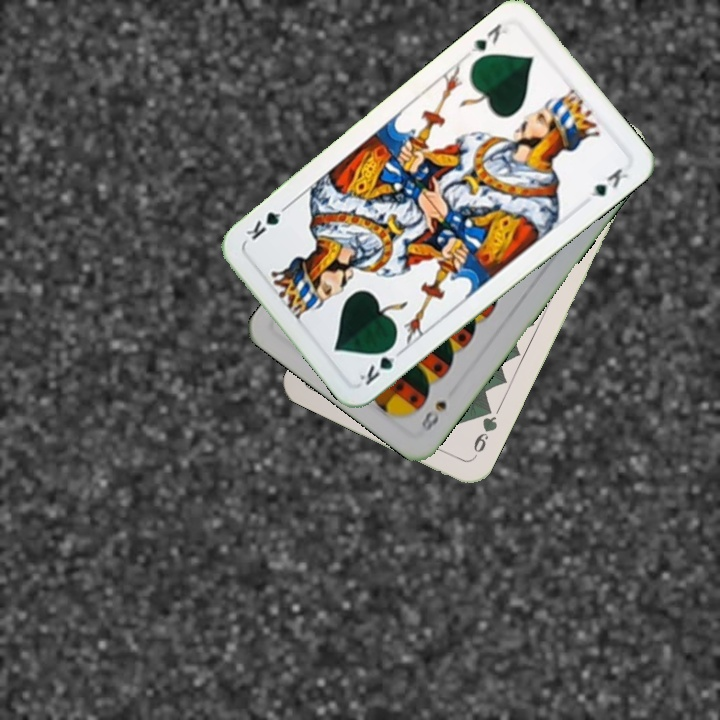G9: (468, 403, 500, 462)
GK: (355, 339, 406, 389), (466, 19, 512, 62)
S8: (417, 396, 450, 435)
